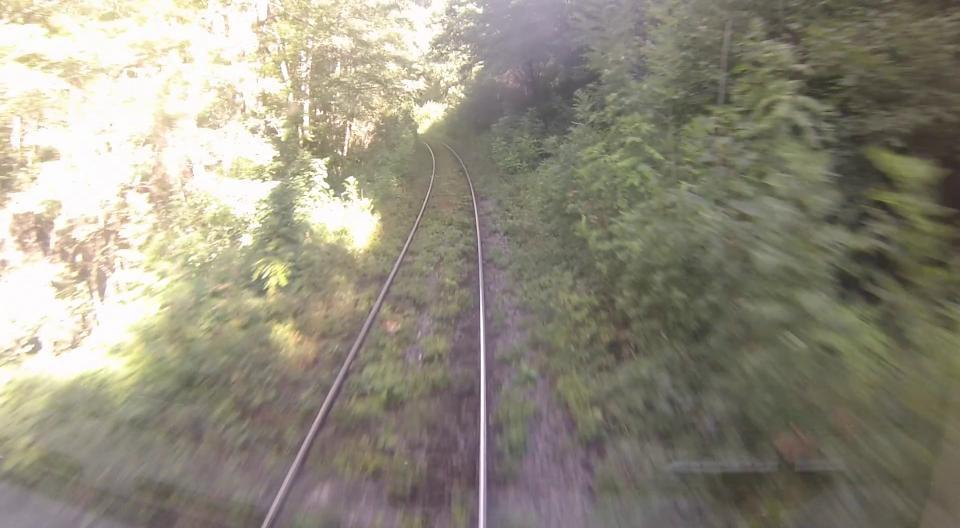Plant: (442, 136, 888, 528), (151, 177, 426, 528), (348, 207, 474, 414), (340, 429, 423, 499)
